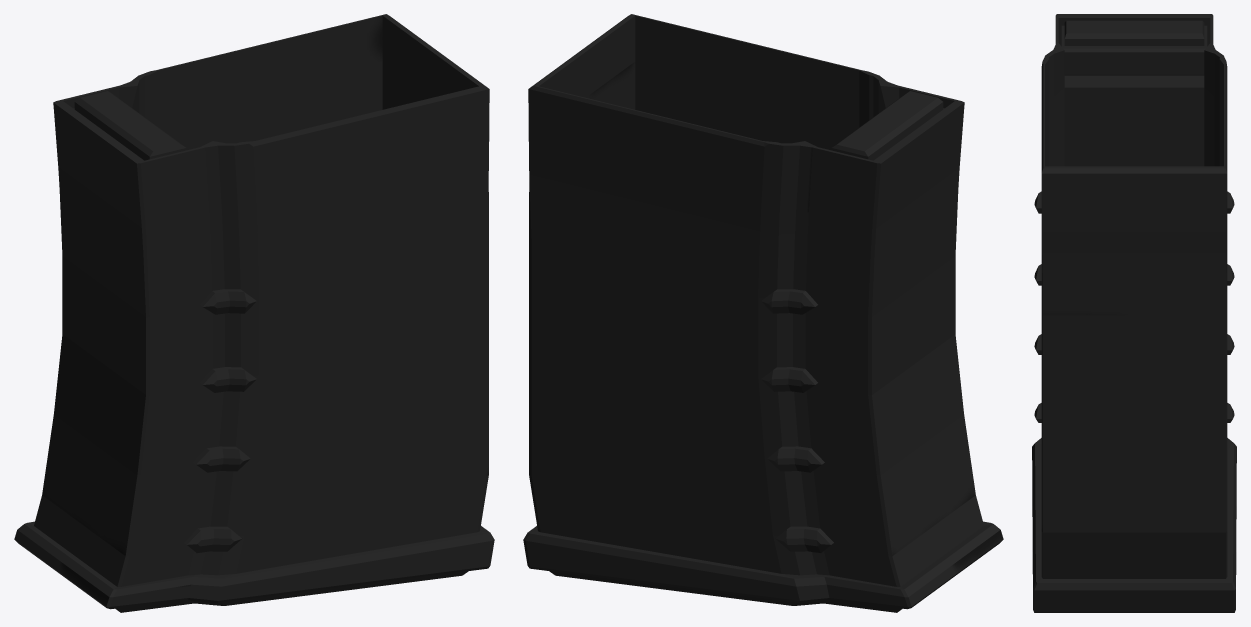
File: LowCharge(AK).fbx
3 views of the same model, side by side, from view 1: azimuth 30°, elevation 25°; view 2: azimuth 150°, elevation 25°; view 3: azimuth 270°, elevation 25° (orthographic). The views are drawn at different scales.
Visible parts, largest first — view 1: LowCharge(AK); view 2: LowCharge(AK); view 3: LowCharge(AK).
Boxes of the visible parts, bbox=[...] form: LowCharge(AK): bbox=[14, 14, 494, 612]; LowCharge(AK): bbox=[523, 14, 1003, 612]; LowCharge(AK): bbox=[1032, 14, 1236, 612].
Size of the model in its own units: 17.81 by 21.87 by 8.94.
Materials: 1 (1 with a texture image).
